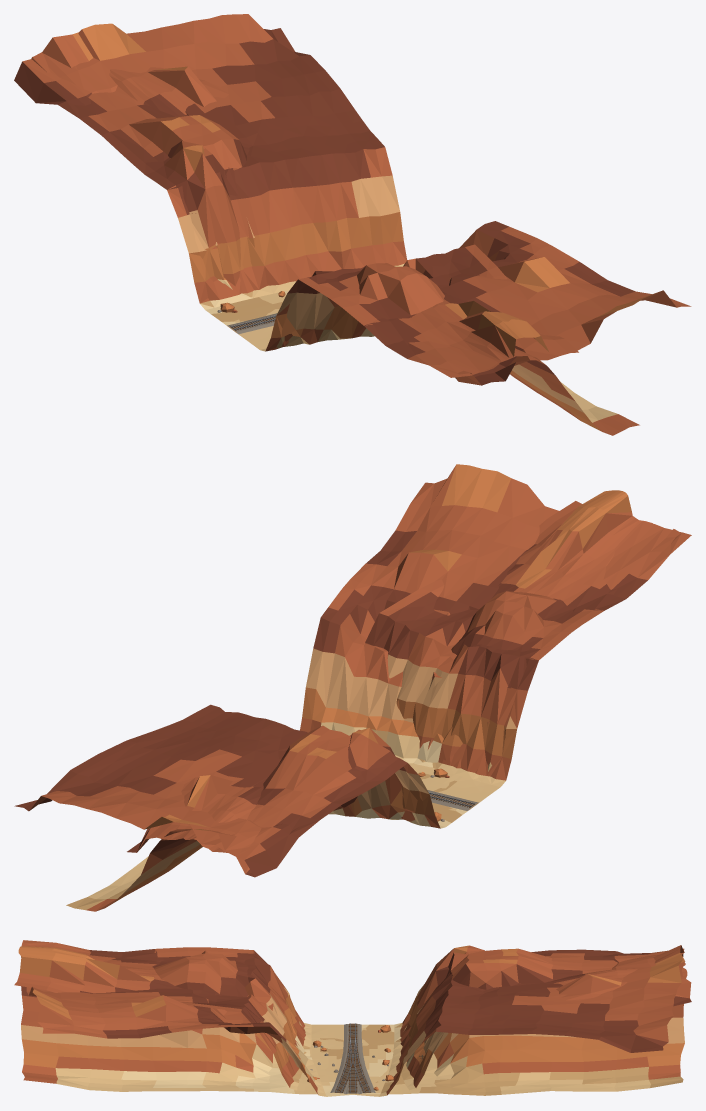
Rendered from Joined_Chunck_CanyonDeep_Exit_A.fbx.
3 views of the same model, one above another, from view 1: azimuth 30°, elevation 25°; view 2: azimuth 150°, elevation 25°; view 3: azimuth 270°, elevation 25° (orthographic). The views are drawn at different scales.
Parts seen in each view (by area): view 1: FG_Chunk_CanyonDeep_CurveR_A_SceneryNear, FG_Chunk_CanyonDeep_CurveL_A_Ground, FG_Chunk_CanyonDeep_Exit_A_Track; view 2: FG_Chunk_CanyonDeep_CurveR_A_SceneryNear, FG_Chunk_CanyonDeep_CurveL_A_Ground, FG_Chunk_CanyonDeep_Exit_A_Track; view 3: FG_Chunk_CanyonDeep_Exit_A_Track, FG_Chunk_CanyonDeep_CurveR_A_SceneryNear, FG_Chunk_CanyonDeep_CurveL_A_Ground.
Boxes of the visible parts, left/top/right/bottom form: FG_Chunk_CanyonDeep_CurveR_A_SceneryNear: left=32, top=14, right=578, bottom=377; FG_Chunk_CanyonDeep_CurveL_A_Ground: left=14, top=59, right=691, bottom=385; FG_Chunk_CanyonDeep_Exit_A_Track: left=31, top=32, right=639, bottom=435; FG_Chunk_CanyonDeep_CurveR_A_SceneryNear: left=14, top=490, right=689, bottom=876; FG_Chunk_CanyonDeep_CurveL_A_Ground: left=127, top=464, right=691, bottom=877; FG_Chunk_CanyonDeep_Exit_A_Track: left=66, top=521, right=675, bottom=911; FG_Chunk_CanyonDeep_Exit_A_Track: left=21, top=941, right=685, bottom=1095; FG_Chunk_CanyonDeep_CurveR_A_SceneryNear: left=14, top=941, right=684, bottom=1096; FG_Chunk_CanyonDeep_CurveL_A_Ground: left=22, top=940, right=691, bottom=1096.
Size of the model in its own units: 6706 by 3513 by 20566.
